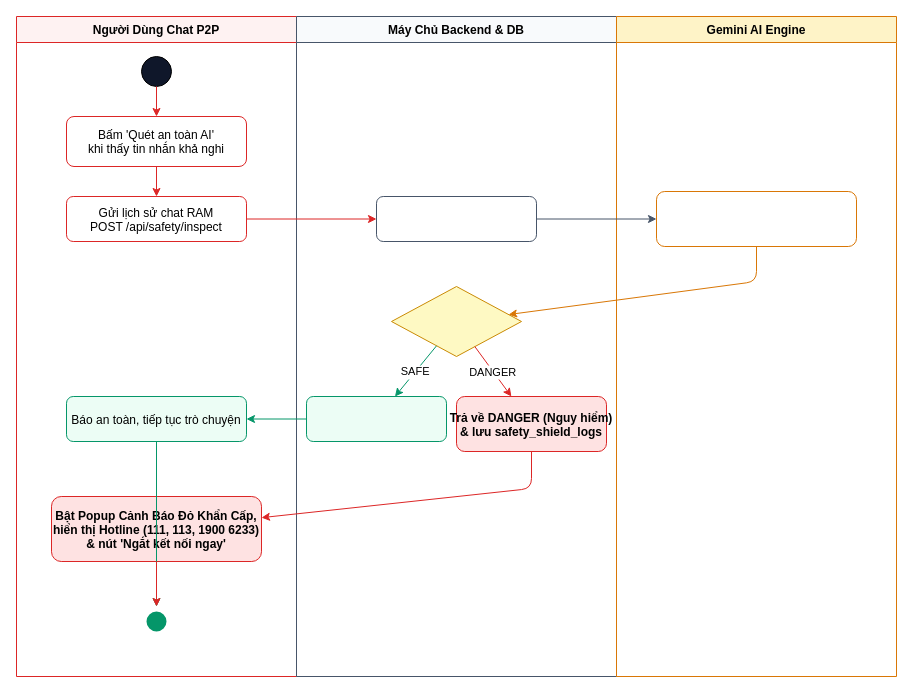
Image size: 913x693. Some labels were removed from this diagram. Each missing label, with the centre of its shape:
Gọi analyzeSafetyRisk() gửi hội thoại cho Gemini: the point at 456,219
Mức độ rủi ro?: the point at 456,321
Phân tích bẫy việc làm, lừa tình, dụ dỗ nạp tiền, tống tiền: the point at 756,218
Trả về SAFE (Bình thường): the point at 376,419
